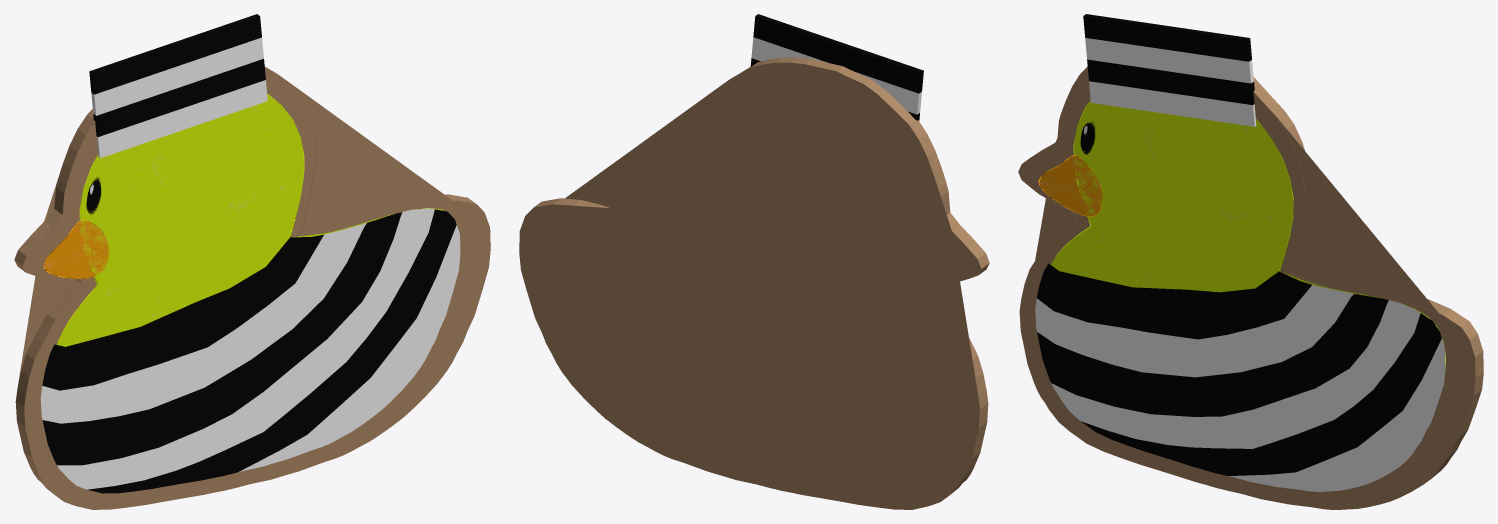
File: secuaz.fbx
3 renders of one model, left to right at view 1: azimuth 30°, elevation 25°; view 2: azimuth 150°, elevation 25°; view 3: azimuth 330°, elevation 25°, orthographic. The views are drawn at different scales.
Visible parts, largest first — view 1: Carton, Gorro; view 2: Carton, Gorro; view 3: Carton, Gorro.
Part boxes in pixels (x1,y1,x2,y2): Carton: [14, 66, 490, 509]; Gorro: [89, 14, 267, 158]; Carton: [519, 57, 989, 509]; Gorro: [750, 14, 923, 120]; Carton: [1018, 66, 1483, 509]; Gorro: [1083, 14, 1256, 126].
Size of the model in its own units: 144 by 137 by 5.28.
